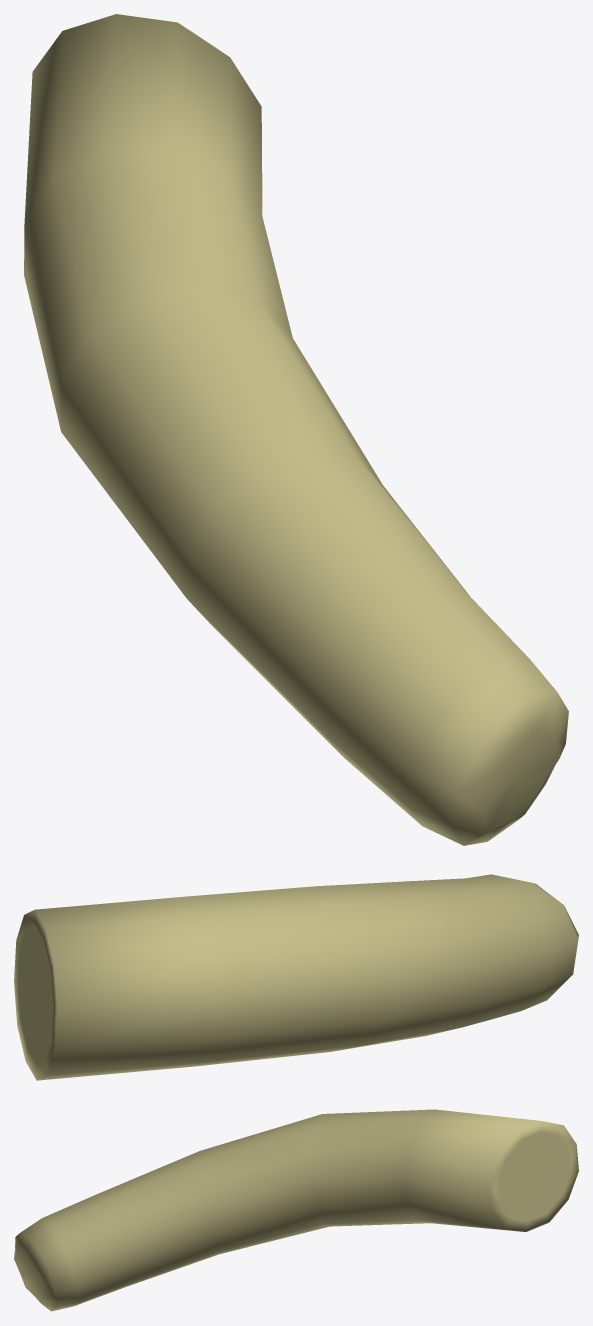
Rendered from Nerves_L2.FBX.
The picture shows the model from 3 angles, top to bottom: view 1: azimuth 30°, elevation 25°; view 2: azimuth 150°, elevation 25°; view 3: azimuth 270°, elevation 25°; orthographic projection. The views are drawn at different scales.
Parts seen in each view (by area): view 1: Nerves_L2; view 2: Nerves_L2; view 3: Nerves_L2.
Part boxes in pixels (x1=…): Nerves_L2: x1=24, y1=14, x2=568, y2=845; Nerves_L2: x1=14, y1=874, x2=578, y2=1080; Nerves_L2: x1=14, y1=1109, x2=578, y2=1311.
Size of the model in its own units: 0.0026 by 0.00298 by 0.00709.
